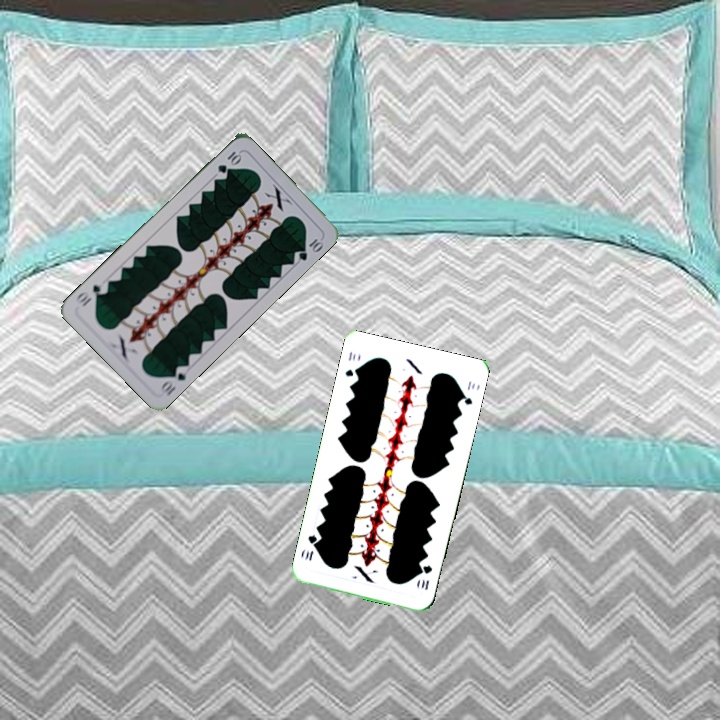G10: (155, 361, 189, 398), (213, 147, 244, 176), (341, 347, 361, 379), (417, 561, 435, 592)
